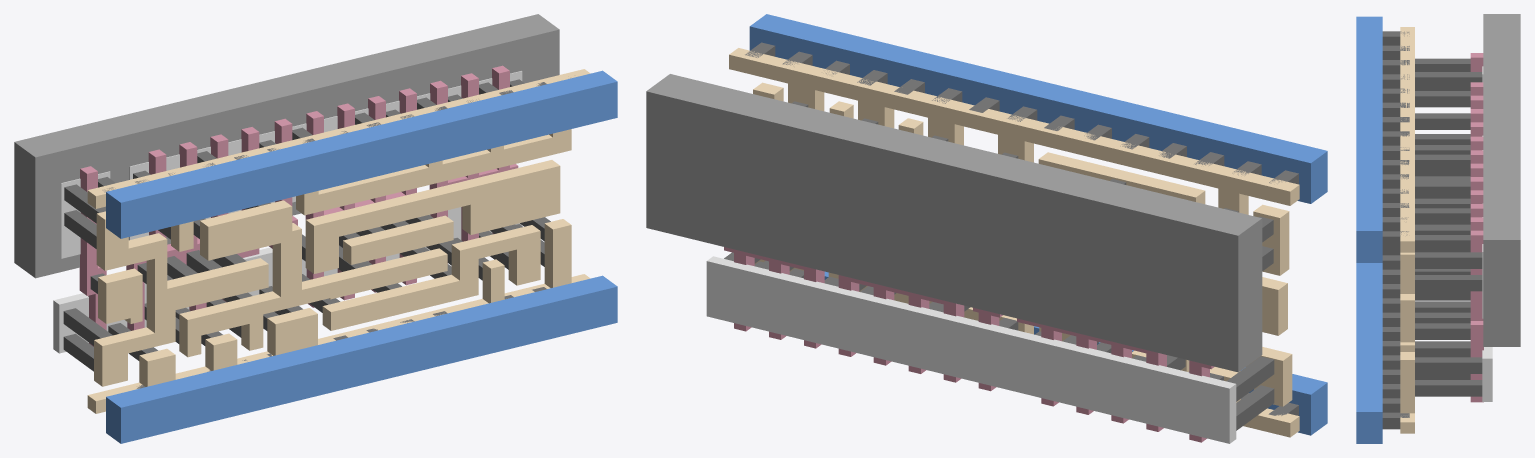
The model's file is sky130_fd_sc_hd__a21boi_4.gds.gltf.
The picture shows the model from 3 angles, left to right: view 1: azimuth 30°, elevation 25°; view 2: azimuth 150°, elevation 25°; view 3: azimuth 270°, elevation 25°; orthographic projection. The views are drawn at different scales.
Visible parts, largest first — view 1: sky130_fd_sc_hd__a21boi_4_li1, sky130_fd_sc_hd__a21boi_4_met1, sky130_fd_sc_hd__a21boi_4_nwell, sky130_fd_sc_hd__a21boi_4_licon, sky130_fd_sc_hd__a21boi_4_poly, sky130_fd_sc_hd__a21boi_4_diff, sky130_fd_sc_hd__a21boi_4_mcon; view 2: sky130_fd_sc_hd__a21boi_4_nwell, sky130_fd_sc_hd__a21boi_4_diff, sky130_fd_sc_hd__a21boi_4_li1, sky130_fd_sc_hd__a21boi_4_met1, sky130_fd_sc_hd__a21boi_4_poly, sky130_fd_sc_hd__a21boi_4_mcon, sky130_fd_sc_hd__a21boi_4_licon; view 3: sky130_fd_sc_hd__a21boi_4_licon, sky130_fd_sc_hd__a21boi_4_nwell, sky130_fd_sc_hd__a21boi_4_met1, sky130_fd_sc_hd__a21boi_4_mcon, sky130_fd_sc_hd__a21boi_4_li1, sky130_fd_sc_hd__a21boi_4_poly, sky130_fd_sc_hd__a21boi_4_diff.
Boxes of the visible parts, box(x1,y1,x2,y2) form: sky130_fd_sc_hd__a21boi_4_li1: box(87, 69, 590, 413); sky130_fd_sc_hd__a21boi_4_met1: box(106, 70, 617, 443); sky130_fd_sc_hd__a21boi_4_nwell: box(14, 14, 559, 278); sky130_fd_sc_hd__a21boi_4_licon: box(63, 79, 550, 371); sky130_fd_sc_hd__a21boi_4_poly: box(79, 65, 518, 346); sky130_fd_sc_hd__a21boi_4_diff: box(53, 71, 522, 353); sky130_fd_sc_hd__a21boi_4_mcon: box(102, 82, 546, 388); sky130_fd_sc_hd__a21boi_4_nwell: box(646, 74, 1262, 372); sky130_fd_sc_hd__a21boi_4_diff: box(706, 256, 1236, 443); sky130_fd_sc_hd__a21boi_4_li1: box(729, 48, 1299, 437); sky130_fd_sc_hd__a21boi_4_met1: box(749, 14, 1327, 435); sky130_fd_sc_hd__a21boi_4_poly: box(724, 247, 1214, 442); sky130_fd_sc_hd__a21boi_4_mcon: box(745, 42, 1298, 415); sky130_fd_sc_hd__a21boi_4_licon: box(724, 101, 1274, 430); sky130_fd_sc_hd__a21boi_4_licon: box(1415, 58, 1482, 396); sky130_fd_sc_hd__a21boi_4_nwell: box(1483, 14, 1520, 346); sky130_fd_sc_hd__a21boi_4_met1: box(1356, 16, 1382, 443); sky130_fd_sc_hd__a21boi_4_mcon: box(1382, 31, 1409, 429); sky130_fd_sc_hd__a21boi_4_li1: box(1400, 27, 1414, 433); sky130_fd_sc_hd__a21boi_4_poly: box(1470, 53, 1483, 402); sky130_fd_sc_hd__a21boi_4_diff: box(1482, 66, 1492, 401).
Bounding box in the file's own units: 7.28 × 3.2 × 2.24.
